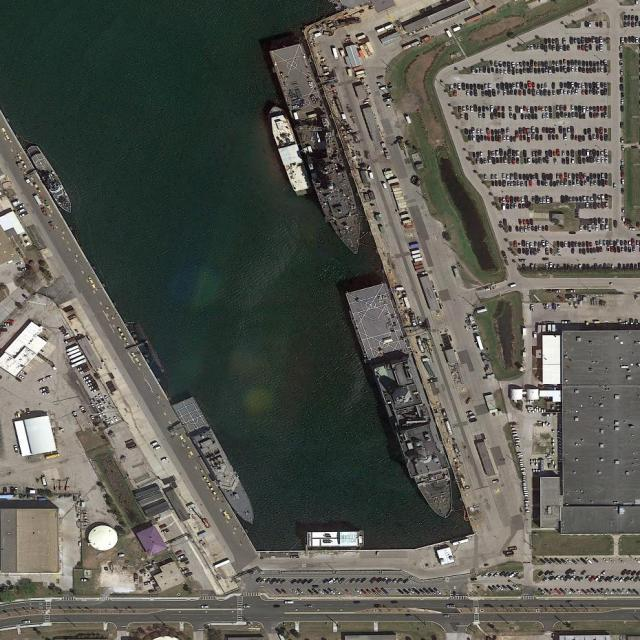Auxiliary Ships: (343, 275, 467, 524)
Frigate: (173, 394, 263, 530)
Landing: (268, 38, 372, 261)
Other Warship: (25, 140, 78, 218)
Submarine: (132, 320, 167, 375)
